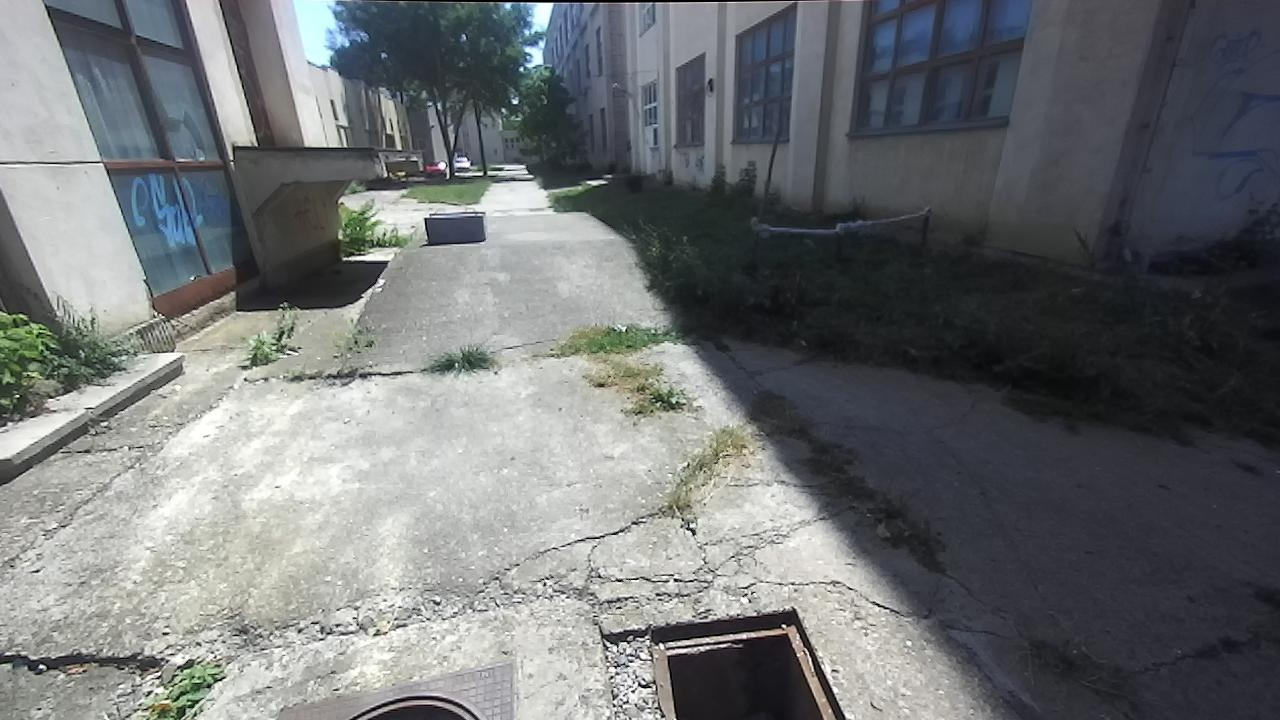drain: (602, 606, 845, 716), (346, 692, 478, 720)
